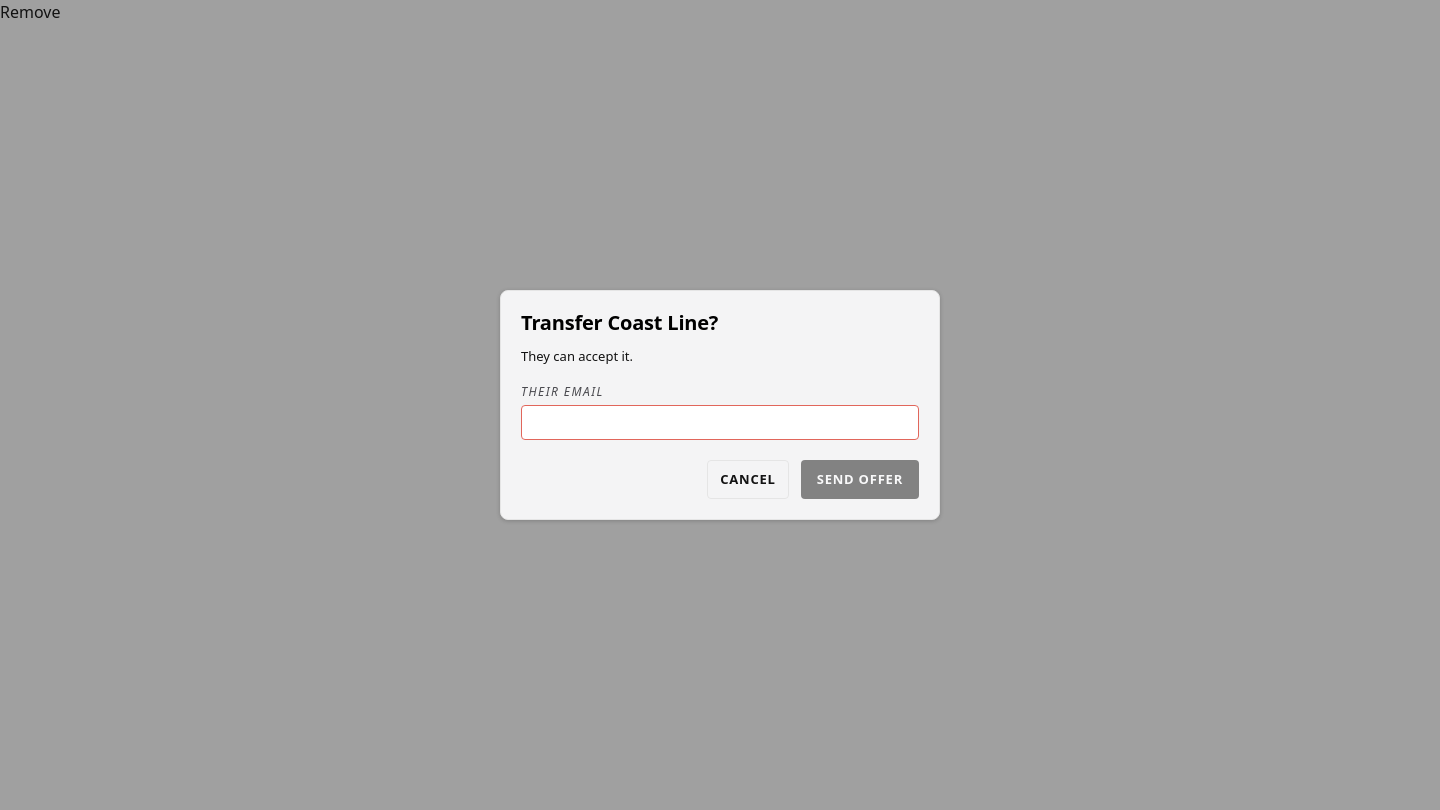
Scenario: ConfirmDialog › with an email › cannot be confirmed until the address looks like one
Expected: the button with test id "confirm-dialog-confirm" is disabled, 801,460 -> 919,499
Type "ada" into the field with test id "confirm-dialog-email".
click(720, 422); type("ada")  # box 521,404 -> 919,440
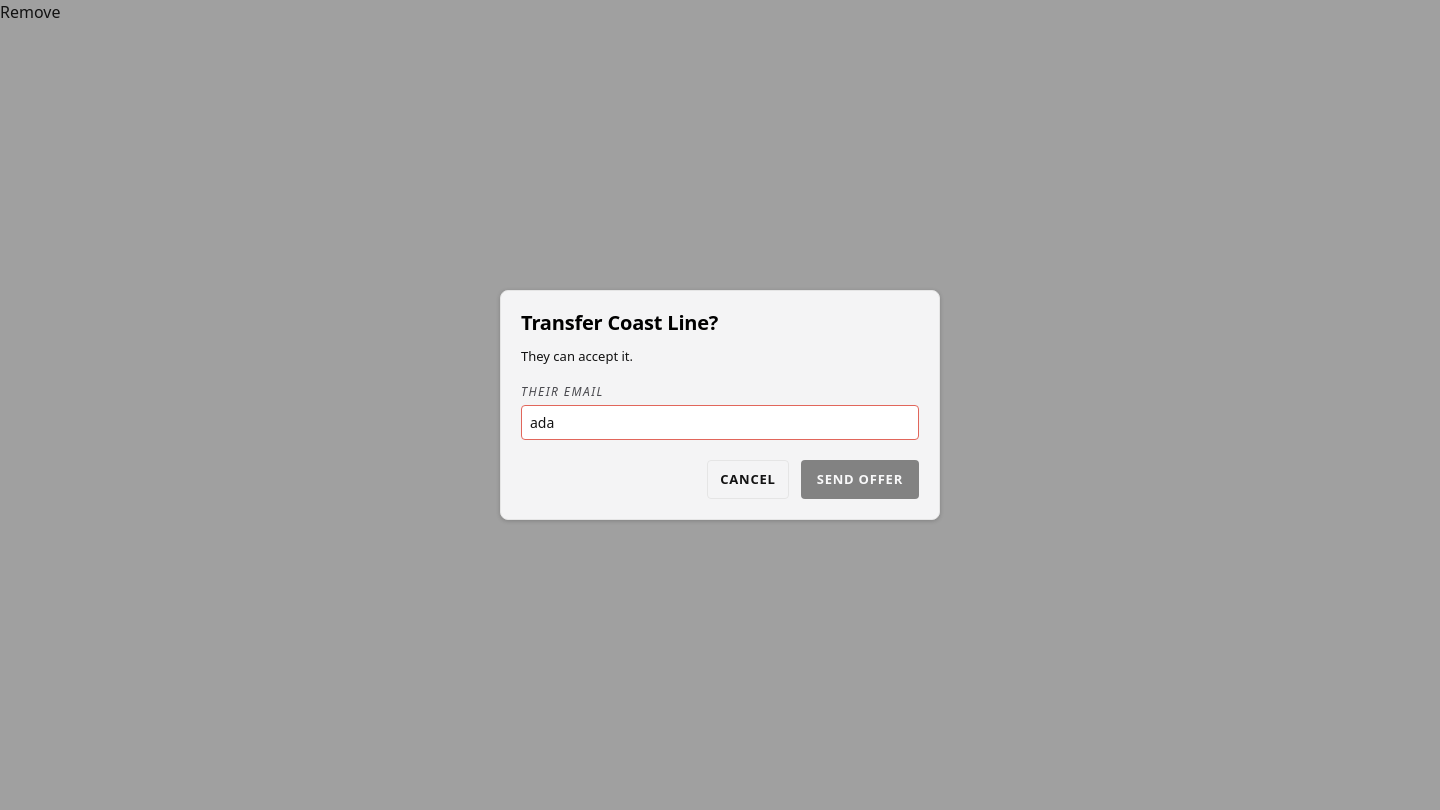
Expected: the button with test id "confirm-dialog-confirm" is disabled, 801,460 -> 919,499
Replace the text in the field with test id "confirm-dialog-email" with "ada@example.com" at (720, 422), box 521,404 -> 919,440
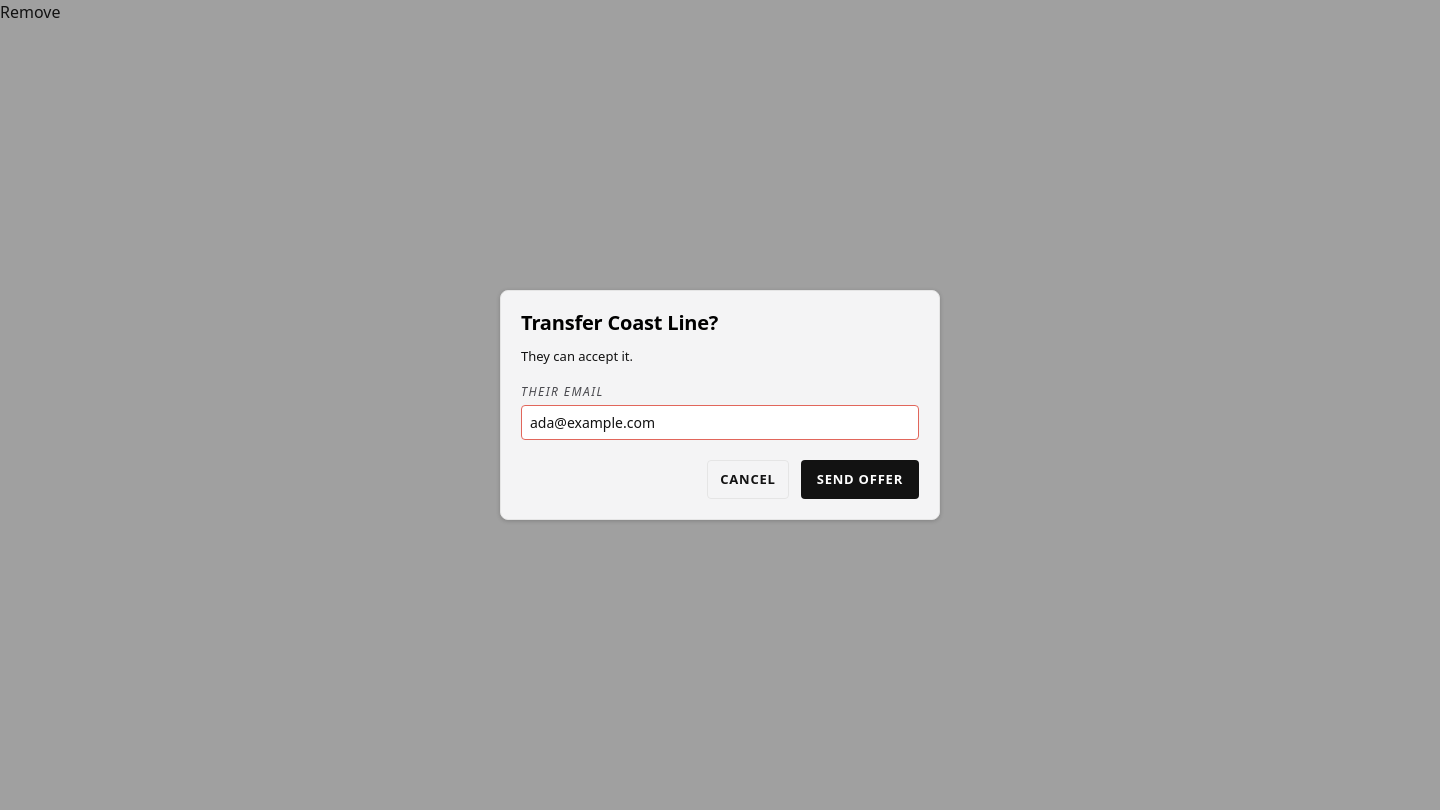
Result: the button with test id "confirm-dialog-confirm" is enabled at 801,460 -> 919,499
